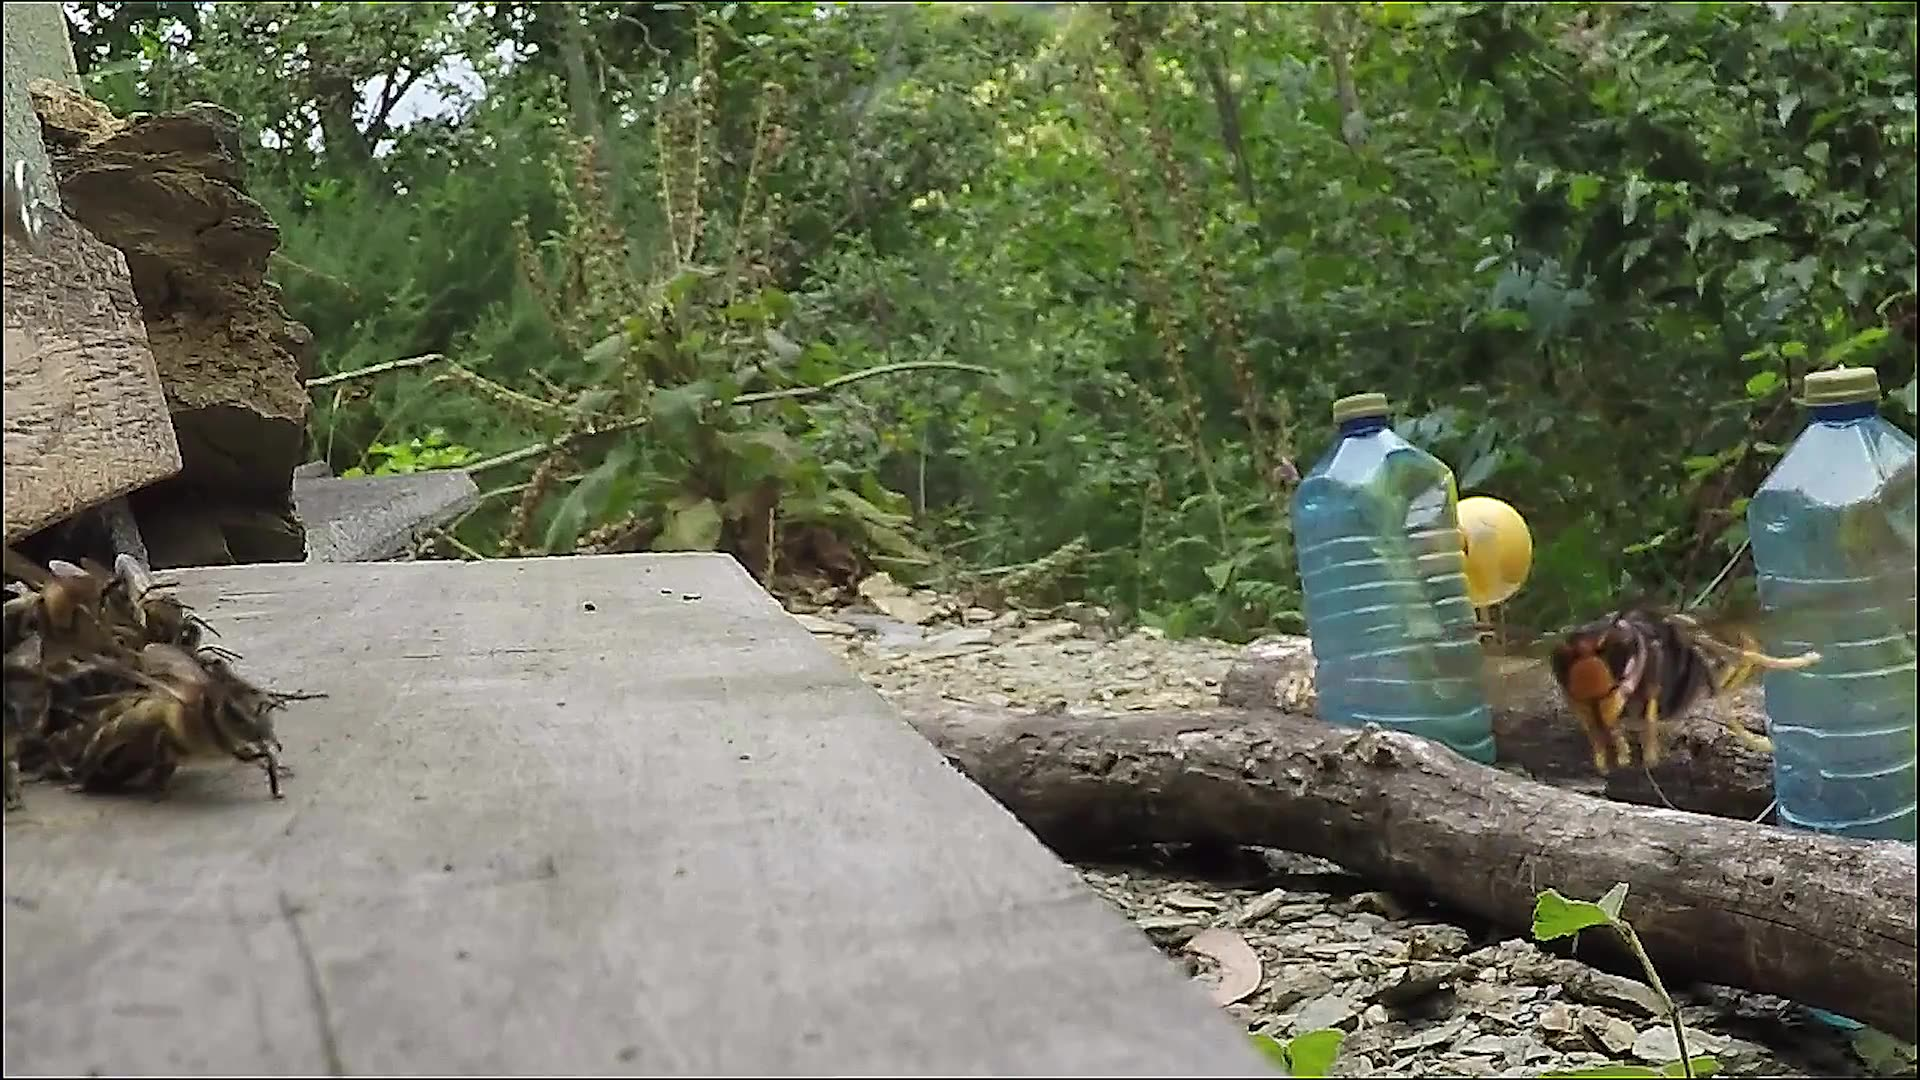bee: (1, 545, 316, 815)
hornet: (1538, 576, 1779, 778)
